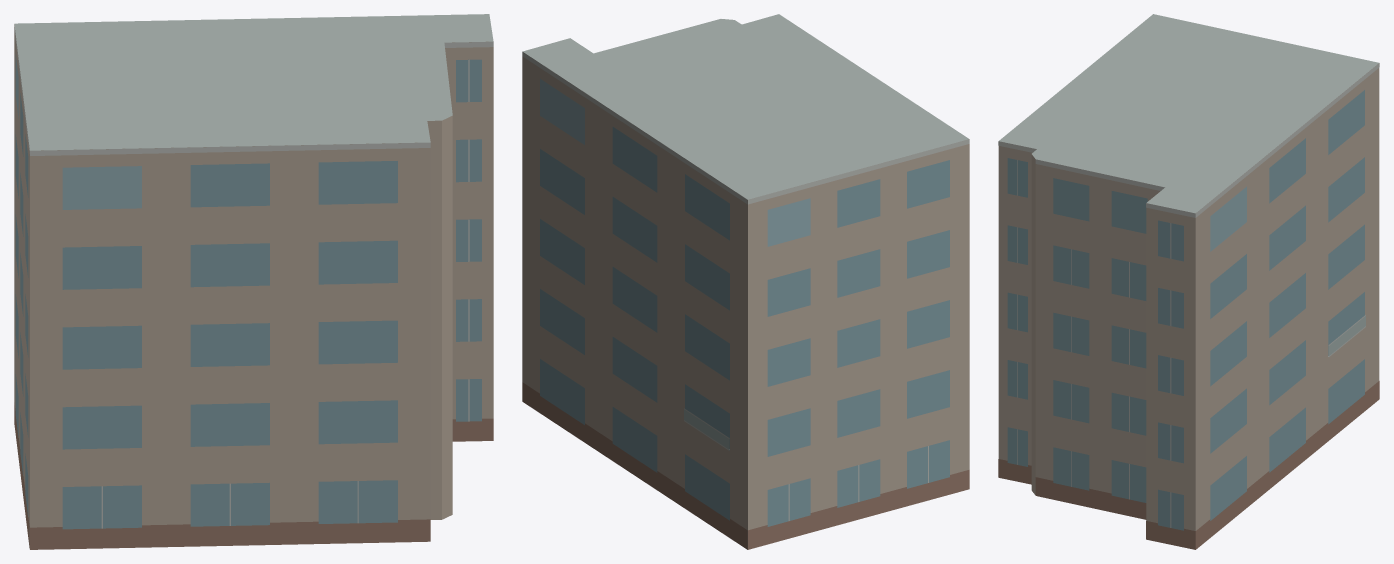
Rendered from survey-upis-32478133.glb.
The picture shows the model from 3 angles, left to right: view 1: azimuth 30°, elevation 25°; view 2: azimuth 150°, elevation 25°; view 3: azimuth 270°, elevation 25°; orthographic projection. The views are drawn at different scales.
Parts seen in each view (by area): view 1: survey-upis-32478133.tmp; view 2: survey-upis-32478133.tmp; view 3: survey-upis-32478133.tmp.
Boxes of the visible parts, x1,y1,x2,y2 form: survey-upis-32478133.tmp: [14, 14, 493, 549]; survey-upis-32478133.tmp: [522, 14, 969, 549]; survey-upis-32478133.tmp: [998, 14, 1379, 549].
Size of the model in its own units: 22.75 by 17.9 by 18.37.
